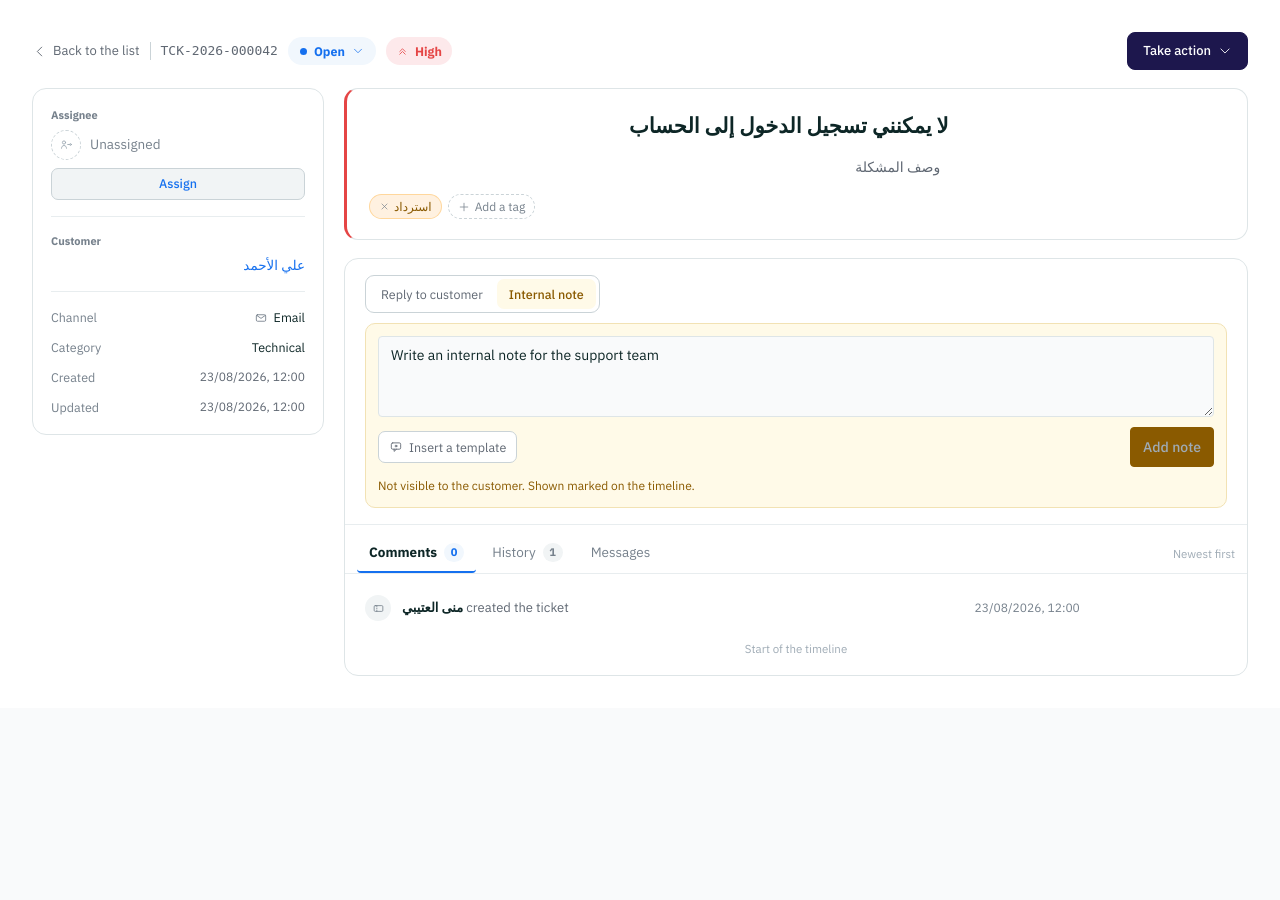
Test: `034`'s tags — the read half it shipped without › offers only the tags not already attached
The image size is (1280, 900).
Expected: the text "TCK-2026-000042" is shown, [160,41,278,61]
Click the button "Add a tag": (492, 207) [448,194,535,219]
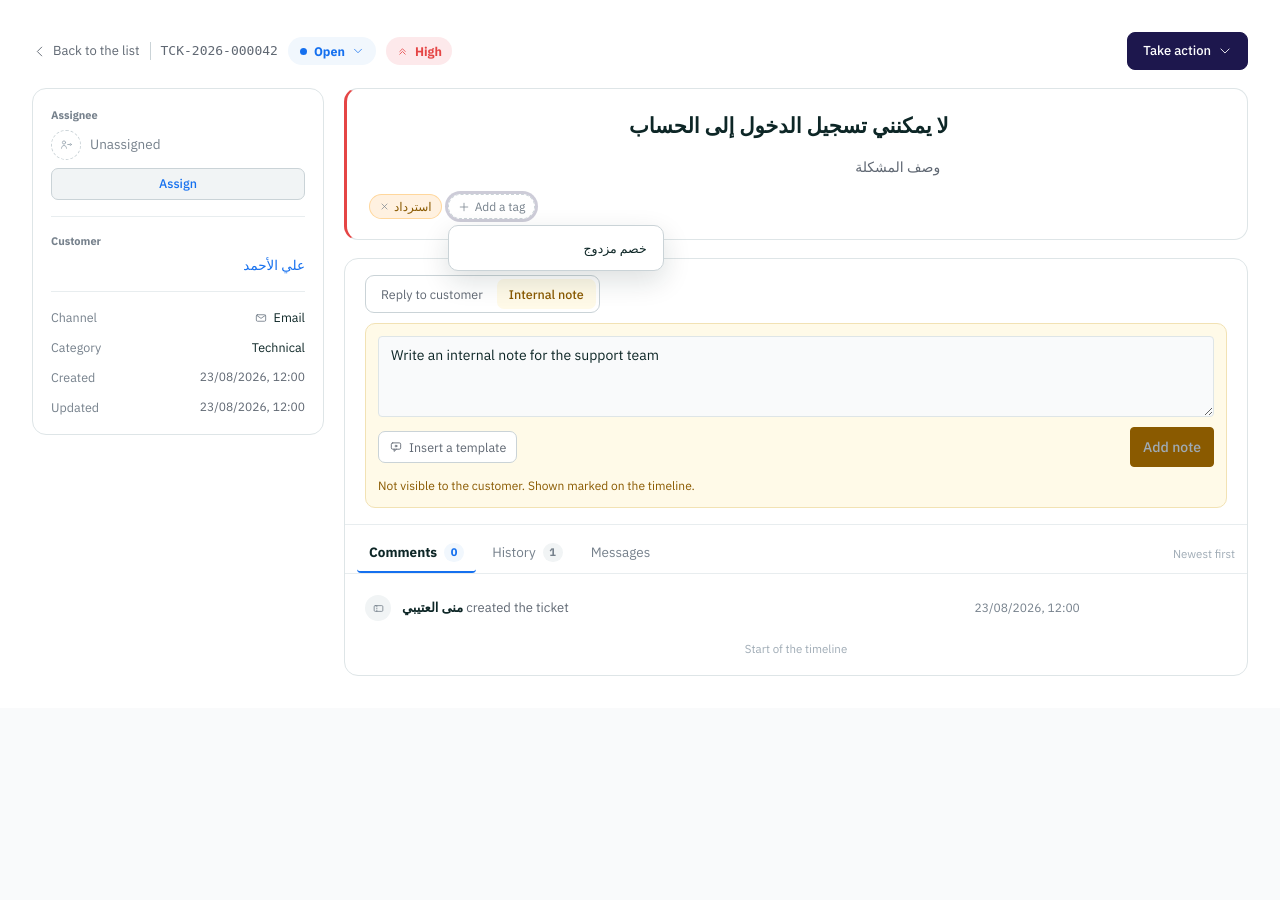
Result: the menu item "خصم مزدوج" is shown at [455,232,657,264]
